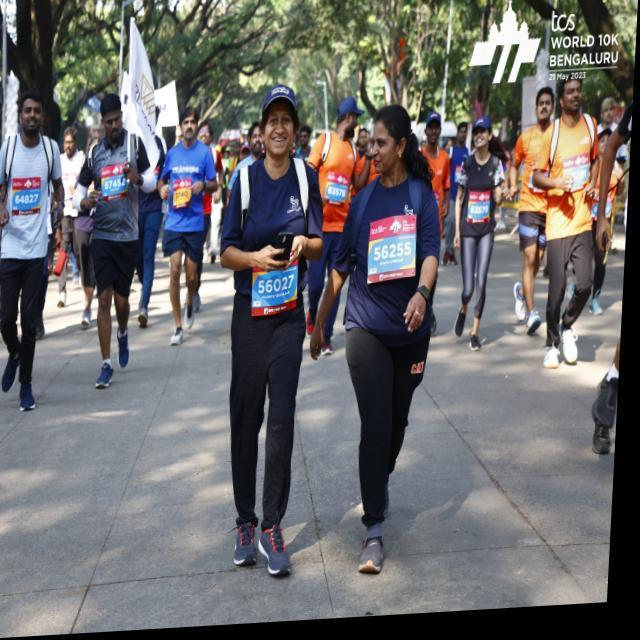dorsal: (366, 218, 426, 292), (252, 262, 304, 316), (10, 176, 44, 218)
